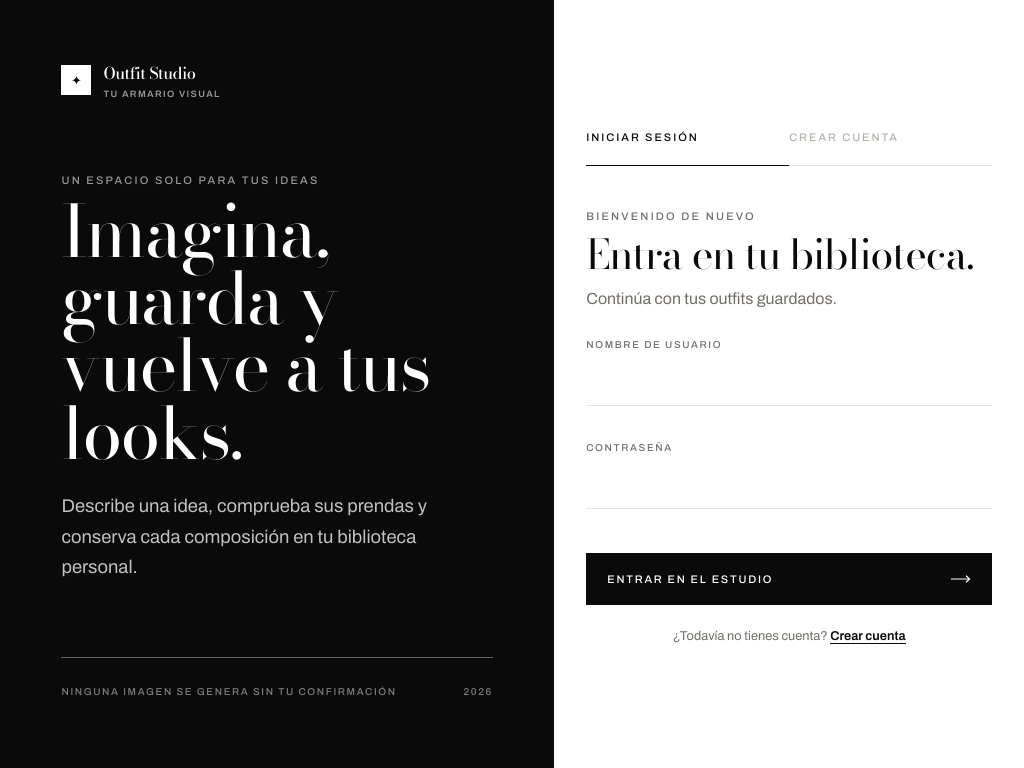
Test: sesión de usuario › permite crear una cuenta normal desde la misma pantalla
The width and height of the screenshot is (1024, 768).
Click the tab "Crear cuenta": (891, 145) [789, 124, 992, 166]
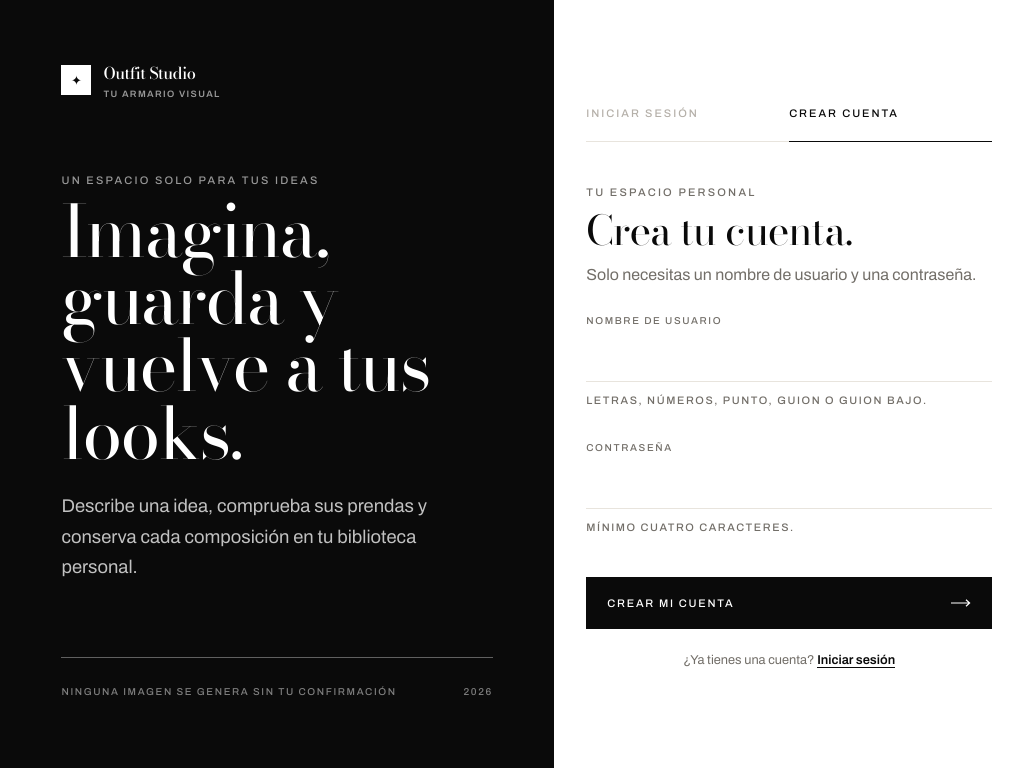
In the field labelled "Nombre de usuario": (789, 360) [586, 338, 992, 382], type "persona"
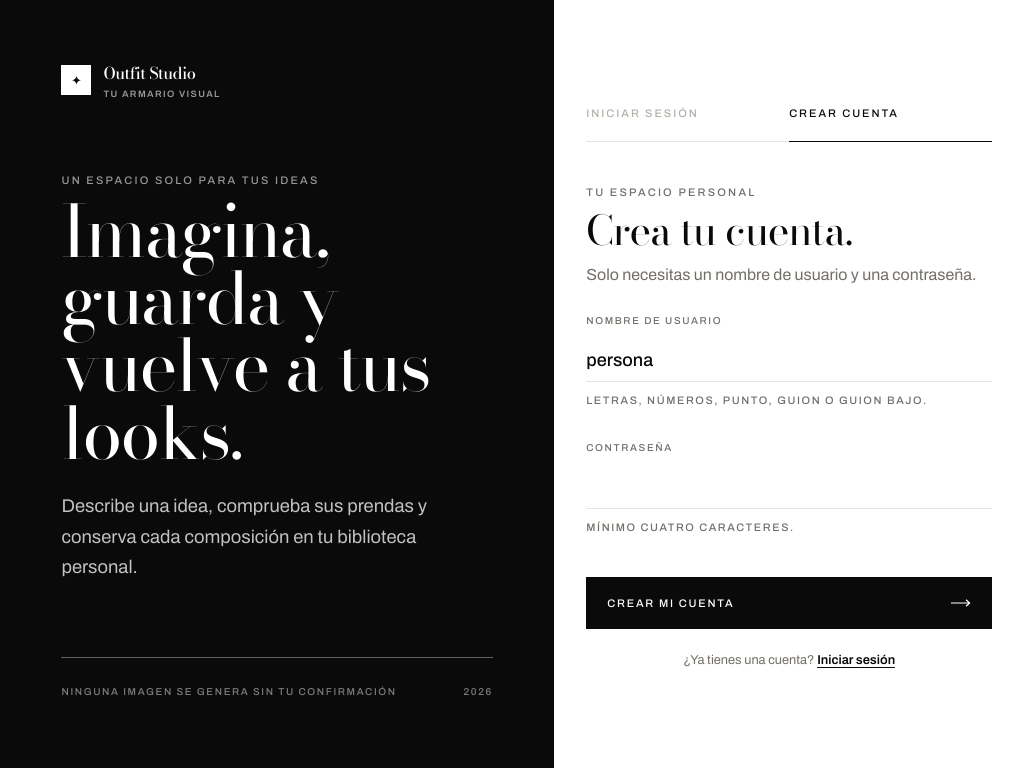
In the password field labelled "Contraseña Mínimo cuatro caracteres.": (789, 487) [586, 465, 992, 509], type "clave"
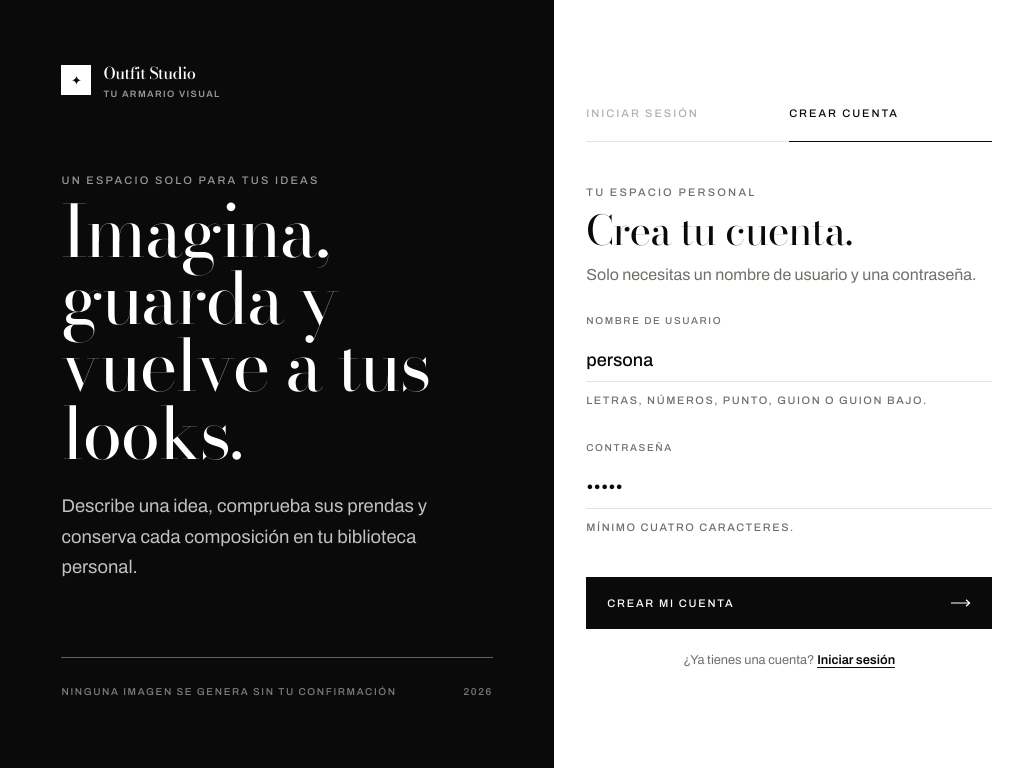
Click the button "Crear mi cuenta": (671, 603) [586, 577, 992, 629]
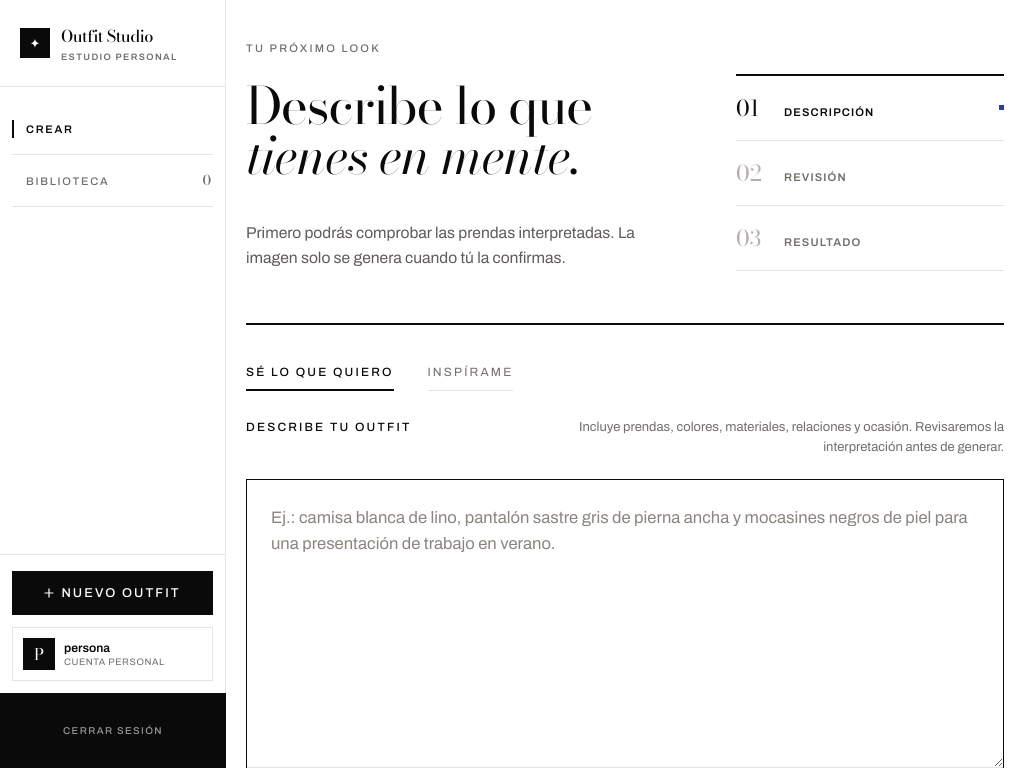
Expected: the text "persona" is shown, [64, 641, 110, 655]
